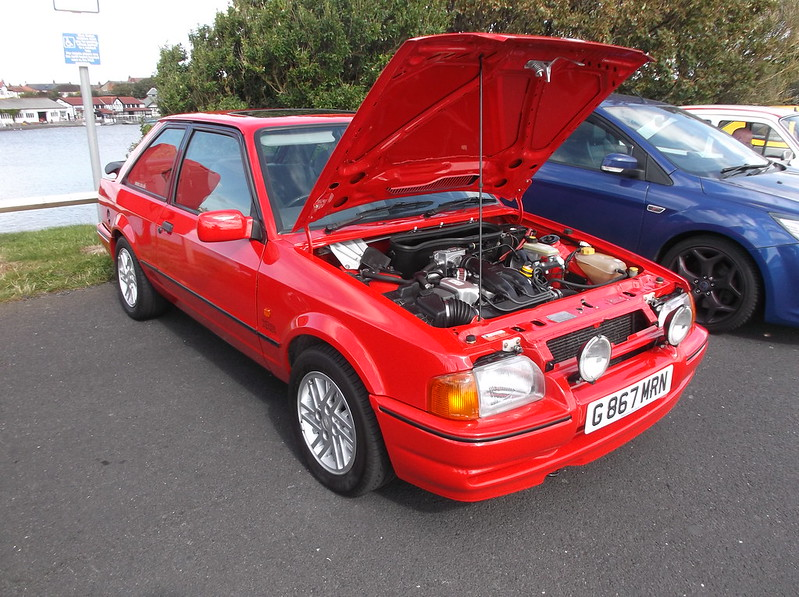number_plate: (570, 365, 695, 435)
